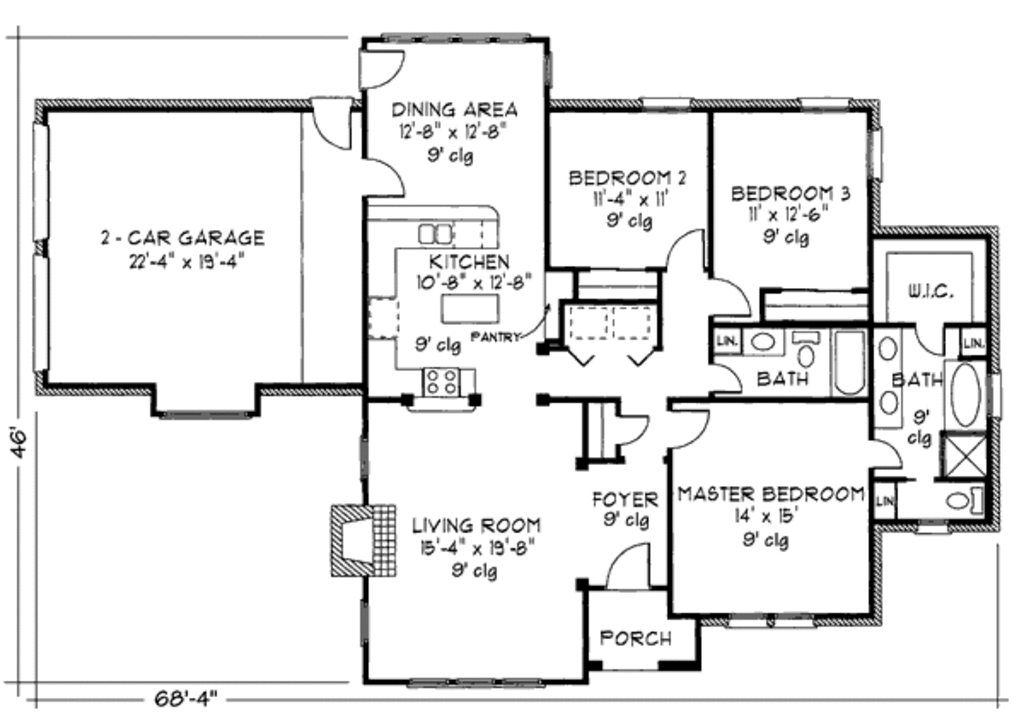door: (307, 93, 368, 160), (597, 541, 665, 599), (666, 407, 721, 462), (356, 152, 411, 202), (660, 225, 716, 273), (908, 312, 949, 361), (712, 276, 754, 322), (611, 409, 653, 451), (864, 434, 909, 473), (360, 50, 404, 86), (709, 360, 749, 398)
large_sink: (787, 324, 827, 372), (950, 480, 988, 516)
small_sink: (876, 323, 905, 431), (750, 323, 793, 354)
tub: (949, 356, 987, 424)
twin_sink: (406, 217, 464, 252)
window: (26, 121, 62, 255), (400, 669, 546, 699), (27, 247, 51, 375), (719, 608, 816, 634), (634, 91, 694, 112), (352, 435, 375, 479), (800, 93, 857, 110), (356, 597, 375, 644), (870, 128, 885, 187)
